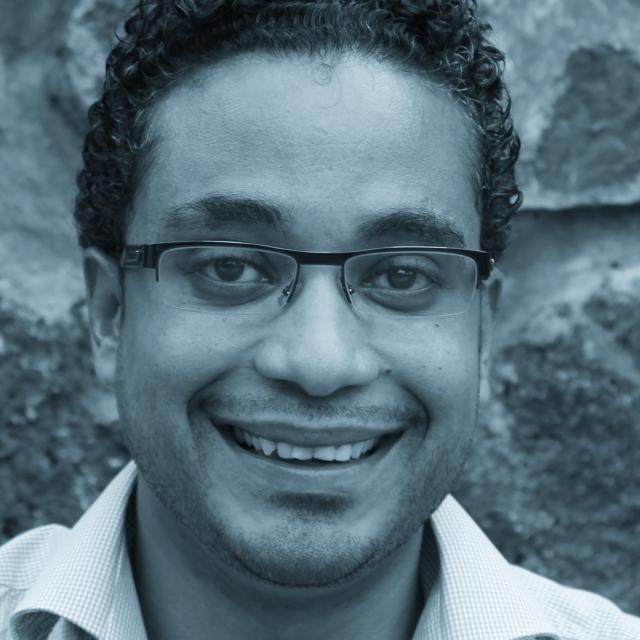Normal: (115, 46, 480, 595)
